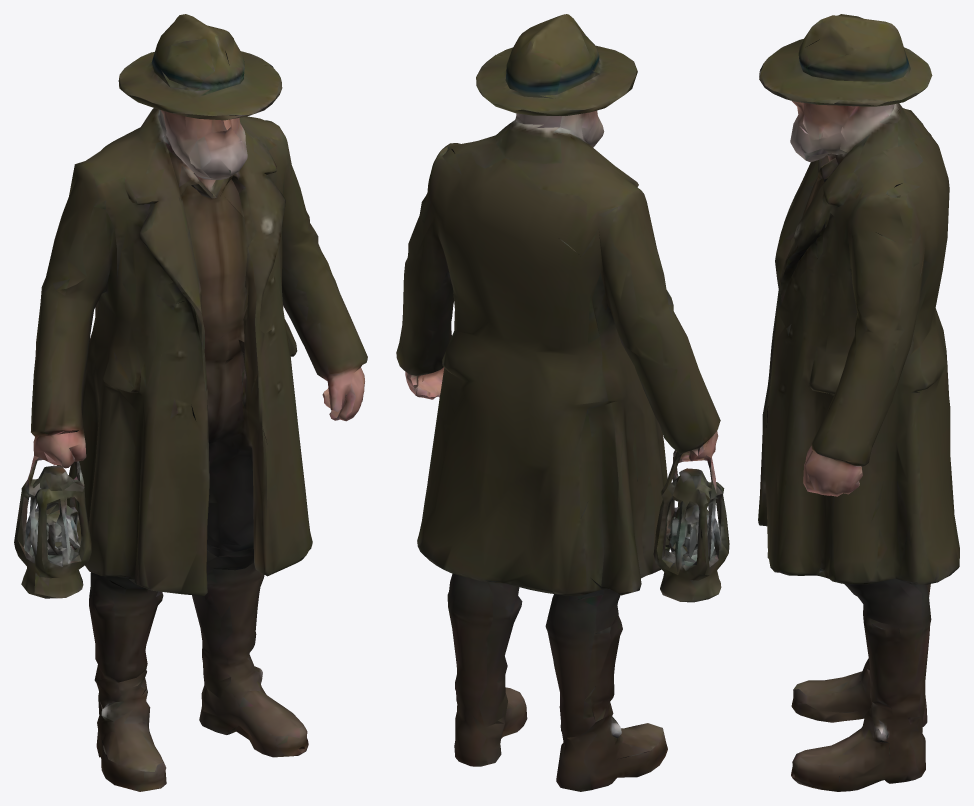
The model's file is ranger.phone.glb.
3 views of the same model, side by side, from view 1: azimuth 30°, elevation 25°; view 2: azimuth 150°, elevation 25°; view 3: azimuth 270°, elevation 25° (orthographic).
Parts seen in each view (by area): view 1: ranger; view 2: ranger; view 3: ranger.
Boxes of the visible parts, left/top/right/bottom form: ranger: left=14, top=14, right=367, bottom=791; ranger: left=396, top=14, right=729, bottom=791; ranger: left=758, top=14, right=959, bottom=791.
Bounding box in the file's own units: 0.8432 × 1.8 × 0.4502.
1 material, 1 textured.
